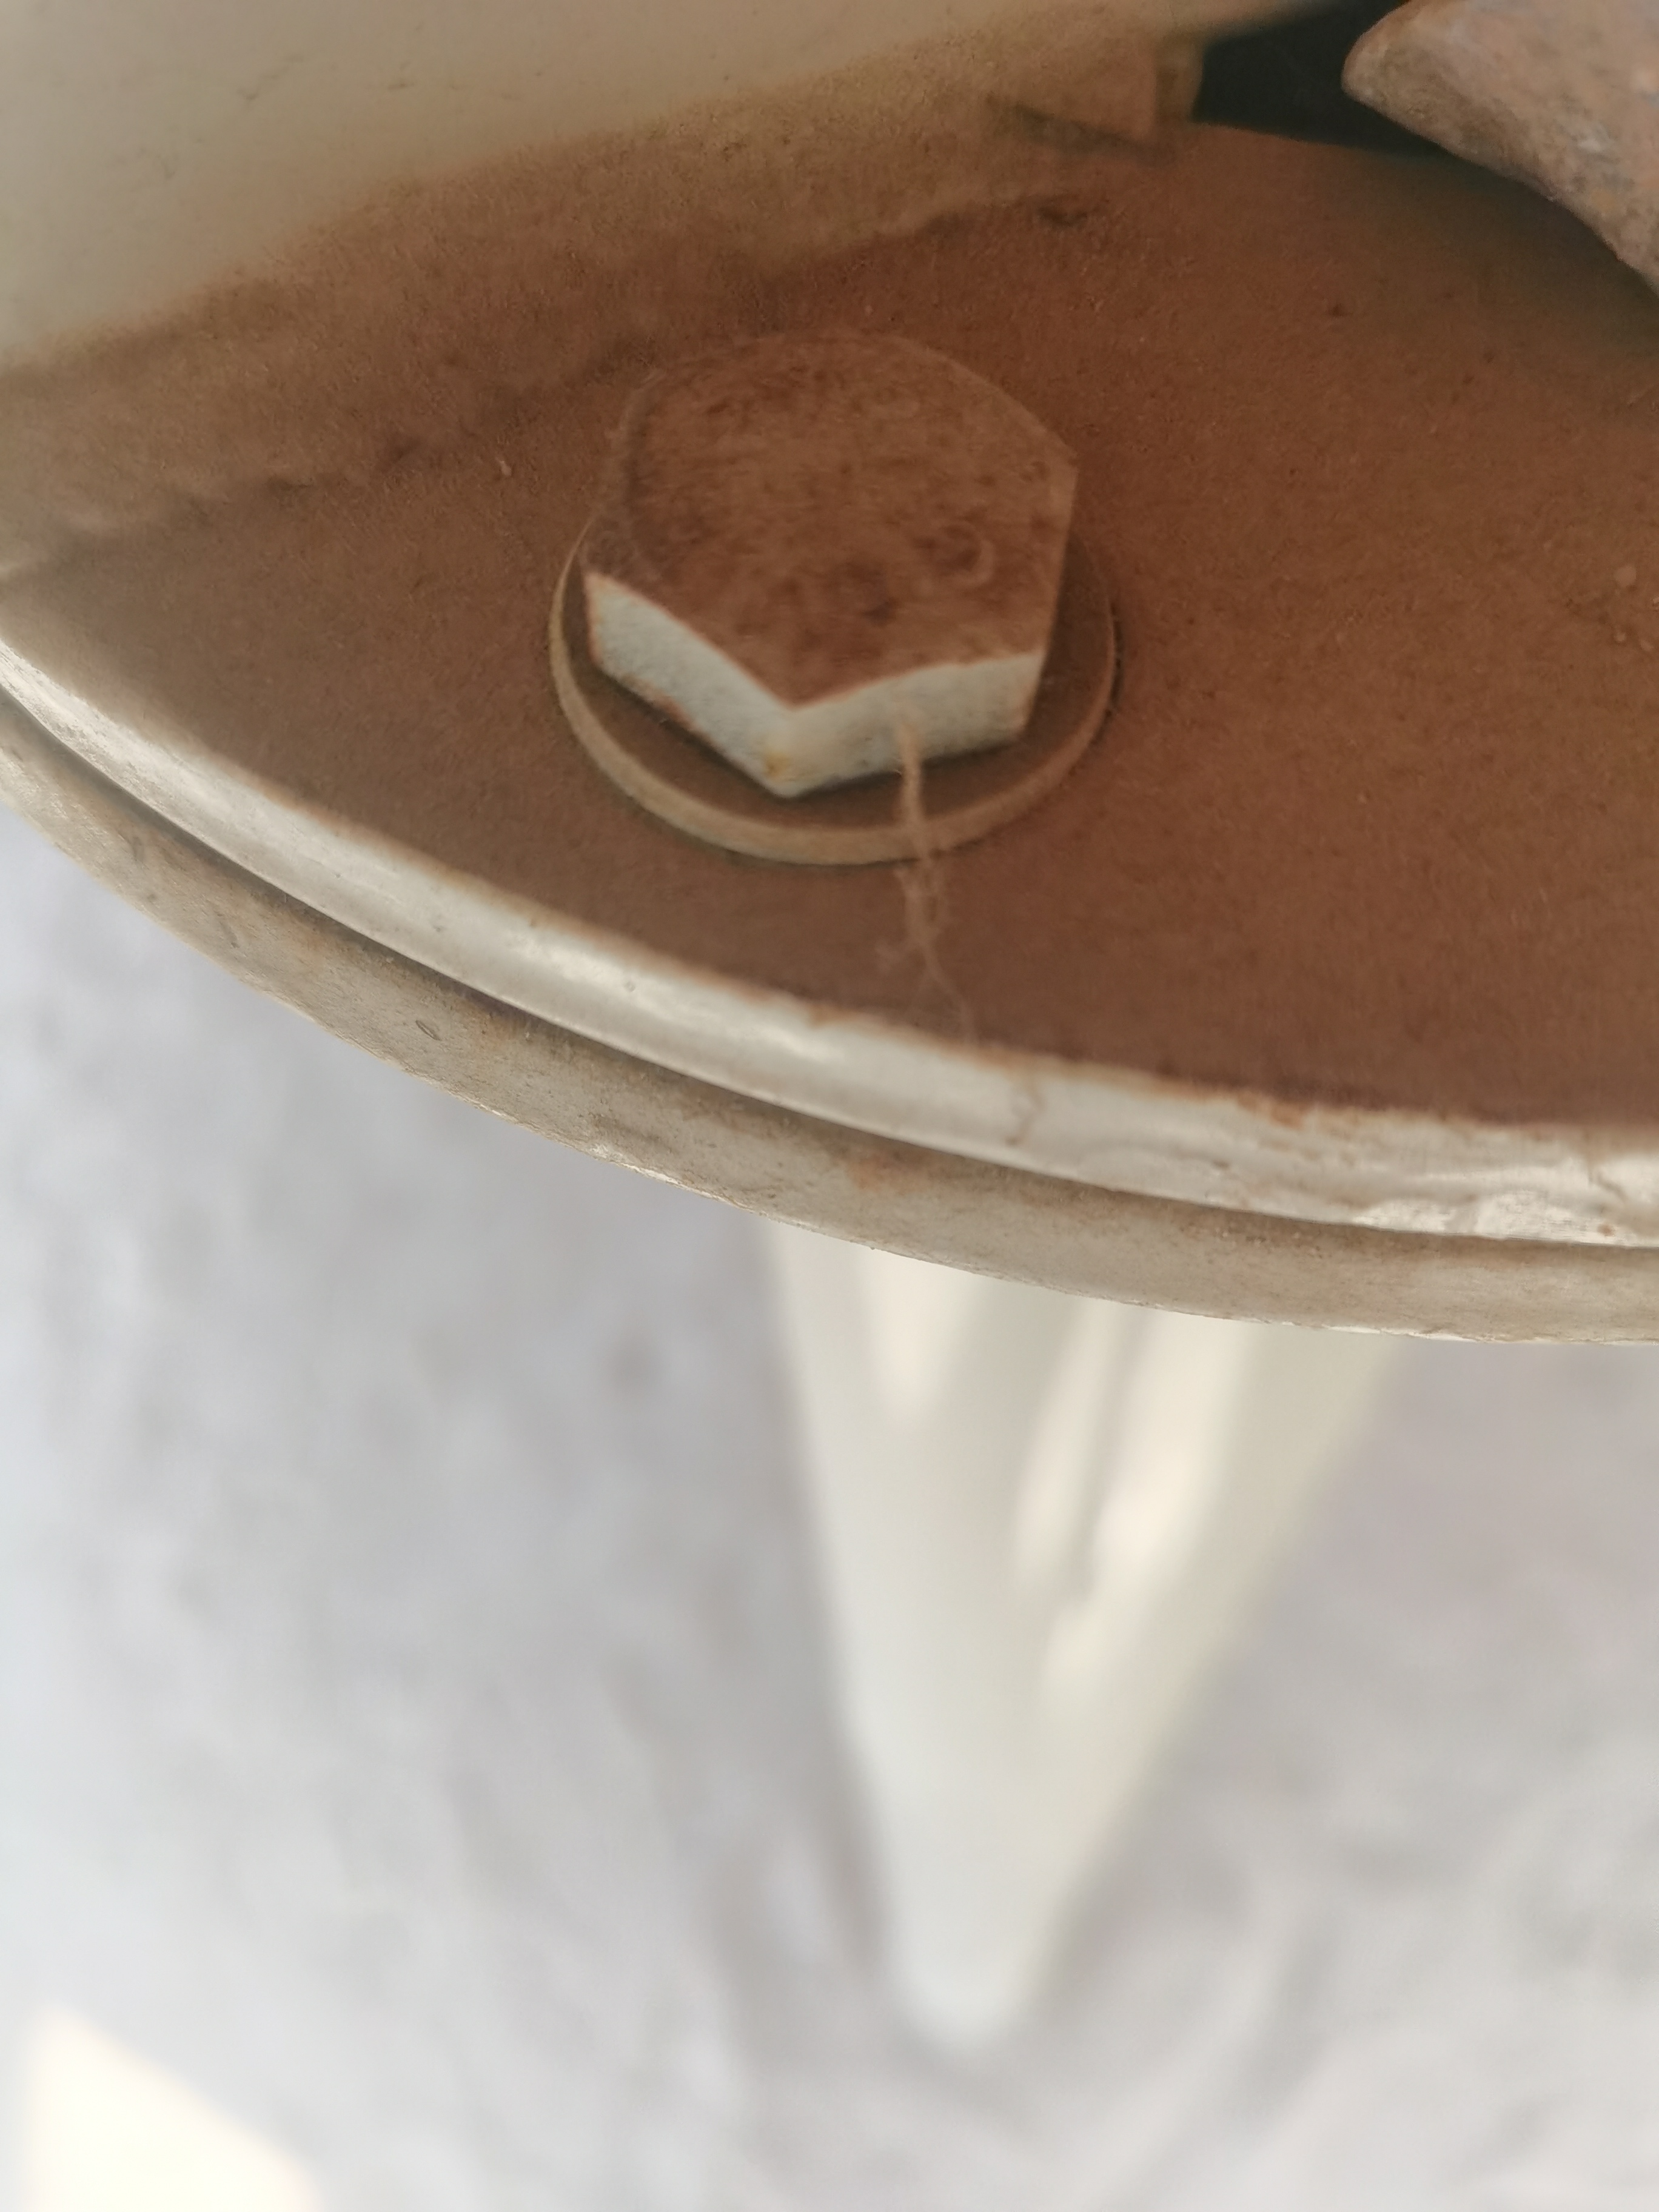bolt_a: (528, 303, 1103, 819)
